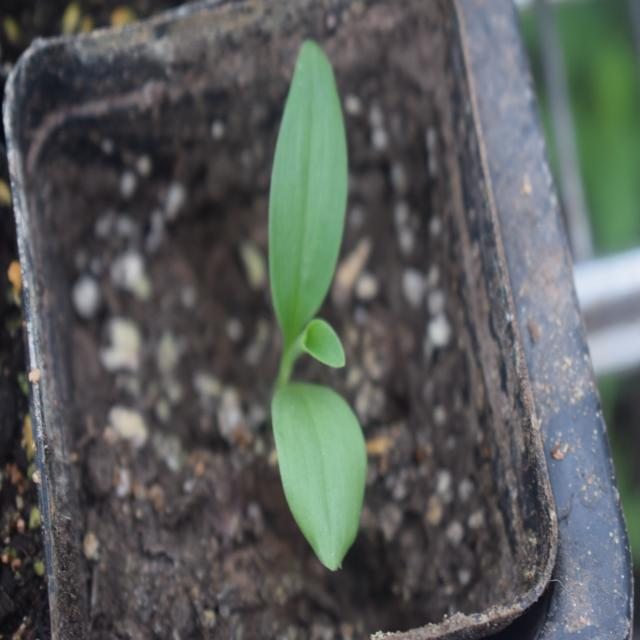Common Dayflower: (234, 67, 370, 551)
